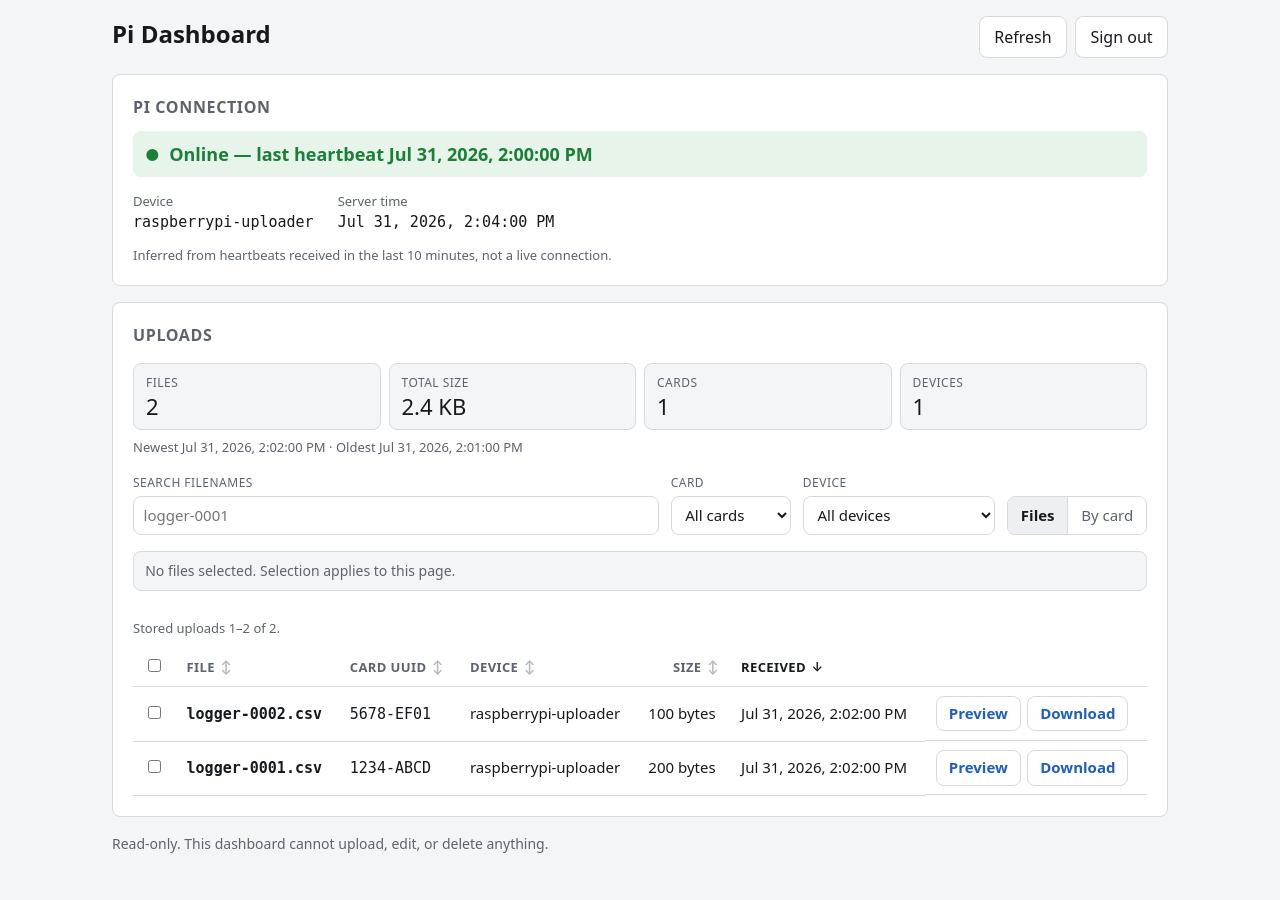
Scenario: bulk selection › selects and clears every row on the page from the header checkbox
Click the checkbox named "Select logger-0001.csv" at (155, 767), box [148, 760, 161, 774]
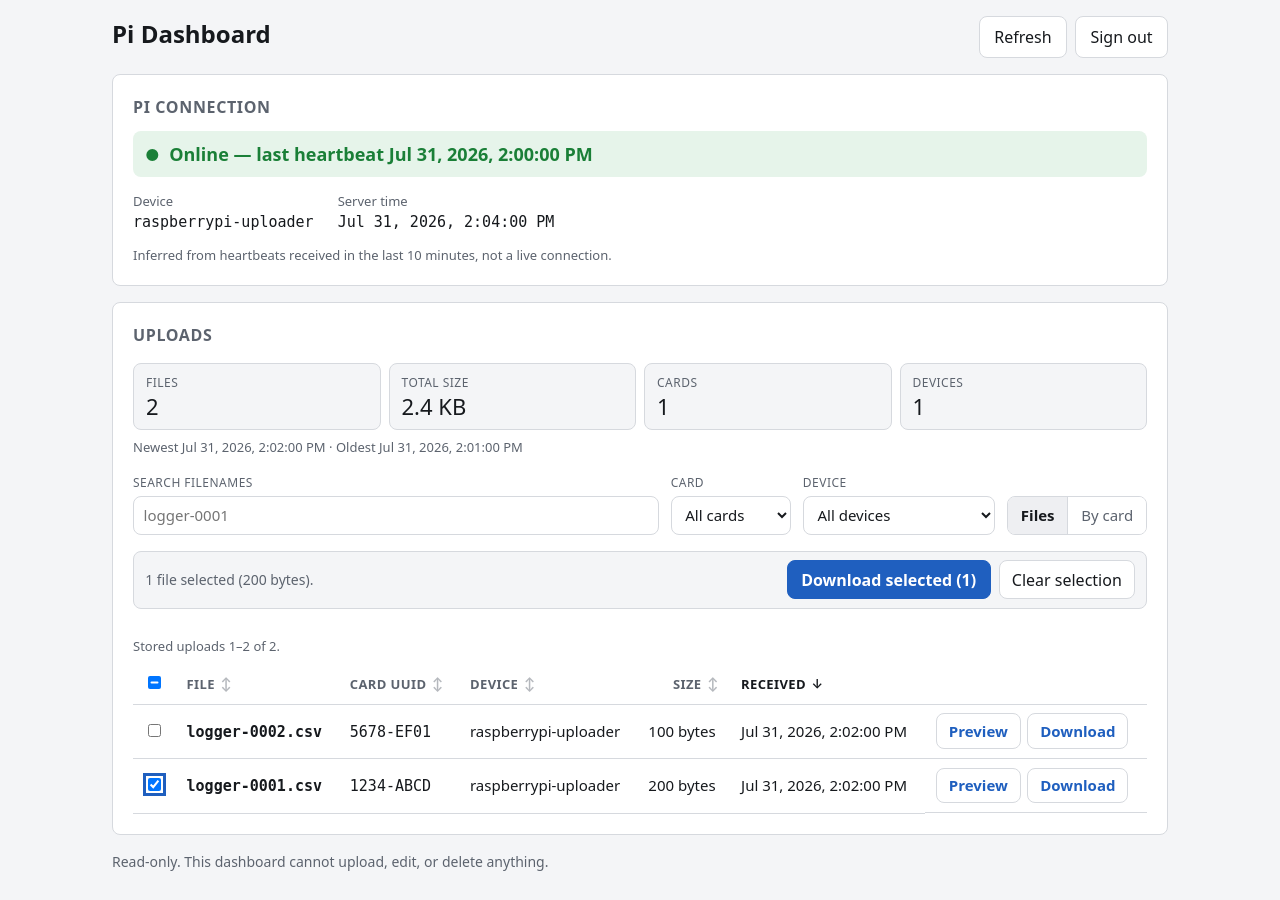
Click the checkbox named "select all files on this page" at (155, 683), box [148, 676, 161, 689]
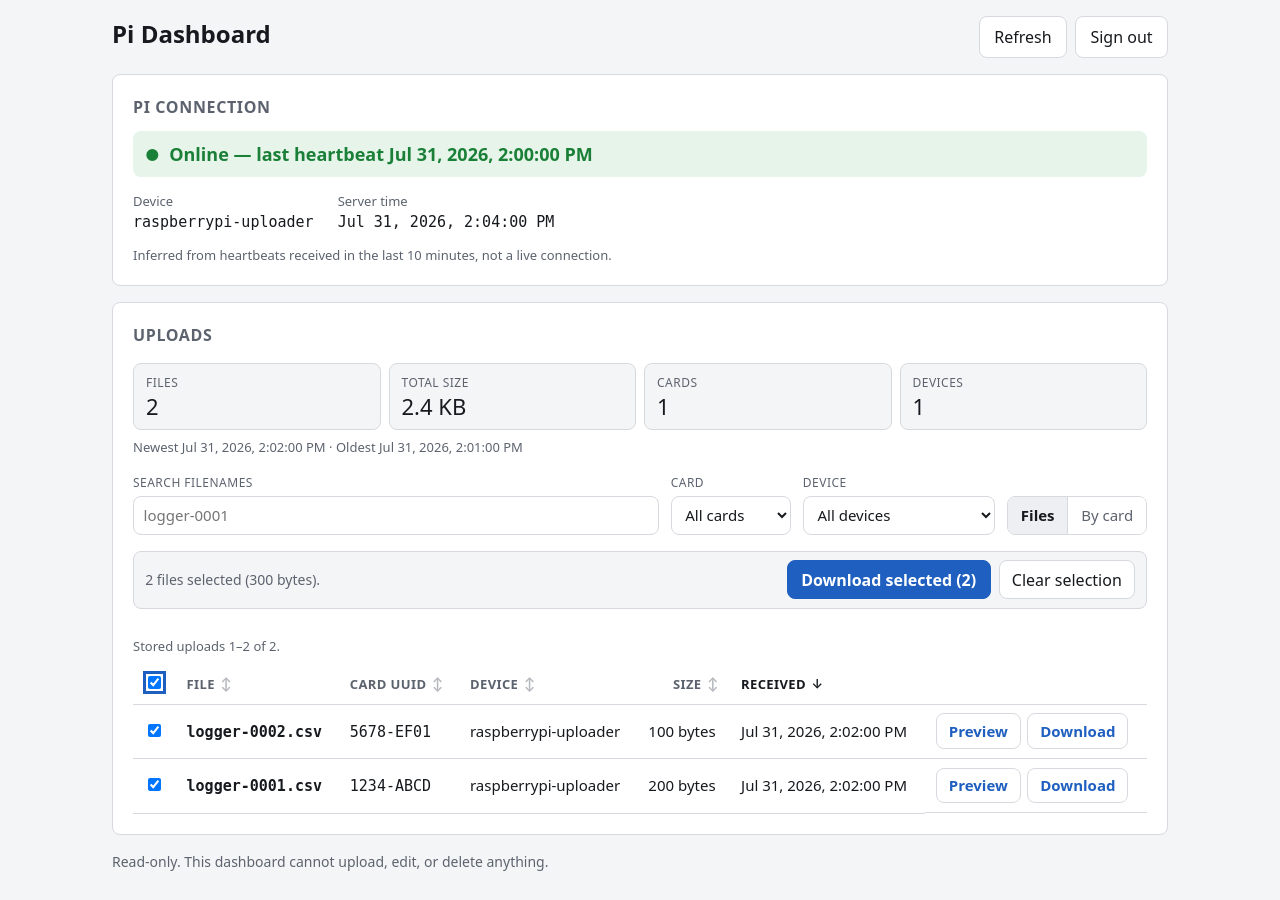
Expected: the button "Download selected (2)" is shown, [787, 560, 991, 599]
Click the checkbox named "select all files on this page" at (155, 683), box [148, 676, 161, 689]
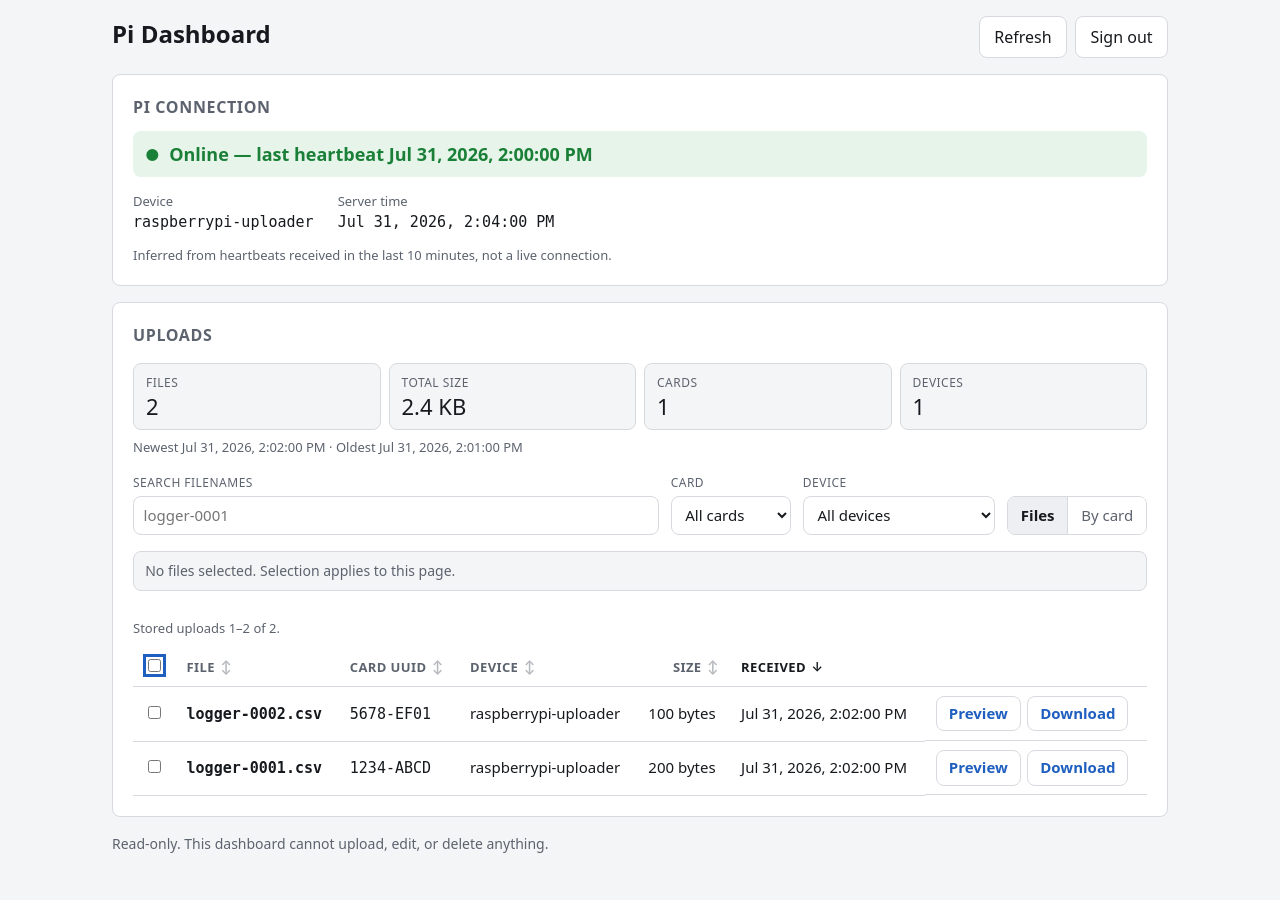
Expected: the button "Download selected" is gone
